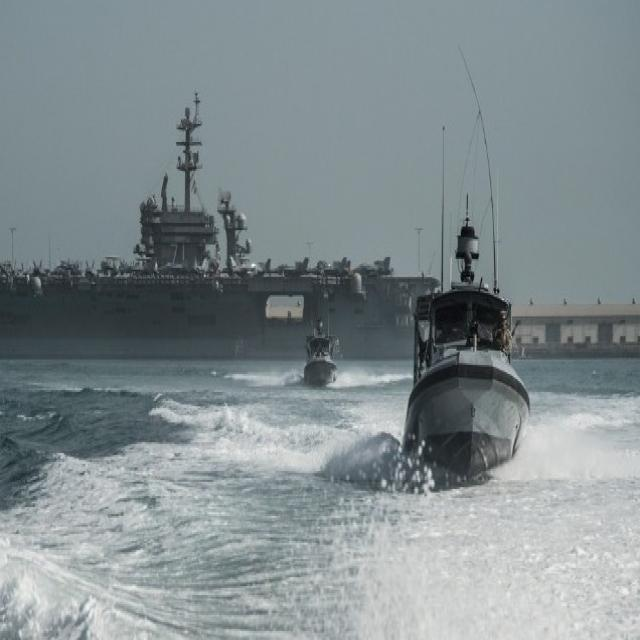navalvessels: (0, 103, 465, 369), (392, 159, 526, 489), (296, 316, 341, 386)
